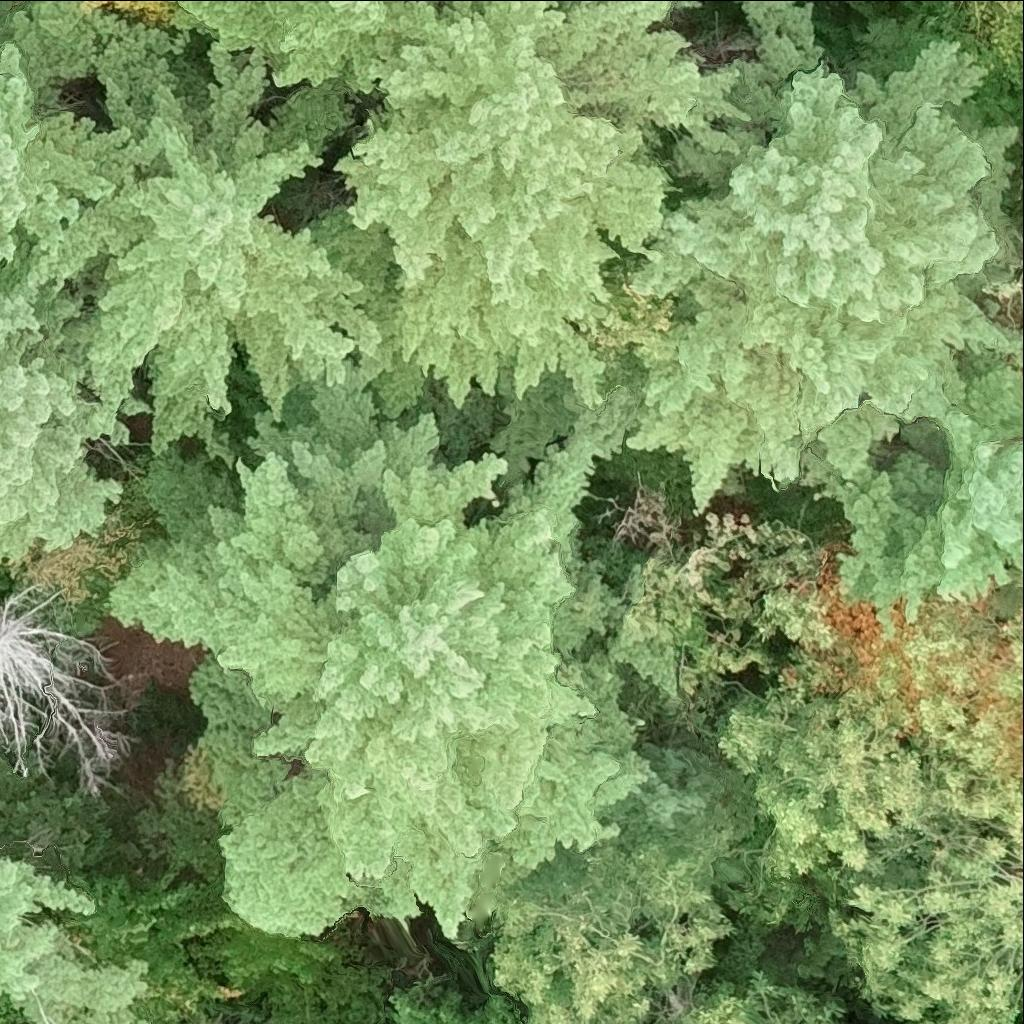crown: (111, 376, 674, 947), (310, 0, 766, 479), (616, 0, 1019, 514), (29, 41, 381, 444), (711, 612, 1023, 1023), (473, 764, 822, 1023), (792, 349, 1023, 633), (590, 478, 829, 703), (0, 258, 152, 565), (16, 873, 248, 1023), (0, 43, 155, 264), (0, 588, 126, 797), (0, 857, 149, 1023), (175, 0, 440, 91), (194, 916, 405, 1023), (571, 244, 705, 403), (908, 0, 1023, 77), (972, 234, 1023, 365), (383, 986, 524, 1023), (82, 0, 184, 15), (0, 997, 32, 1023), (0, 0, 17, 27), (533, 0, 578, 6), (668, 0, 695, 9), (208, 1014, 228, 1023), (0, 1016, 7, 1023), (1021, 429, 1023, 448)
